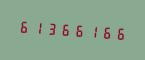one: (31, 17, 44, 38), (87, 21, 100, 41)
six: (17, 16, 30, 37), (59, 19, 72, 39), (73, 20, 86, 40), (101, 22, 114, 42), (115, 23, 128, 43)
three: (45, 18, 58, 38)
